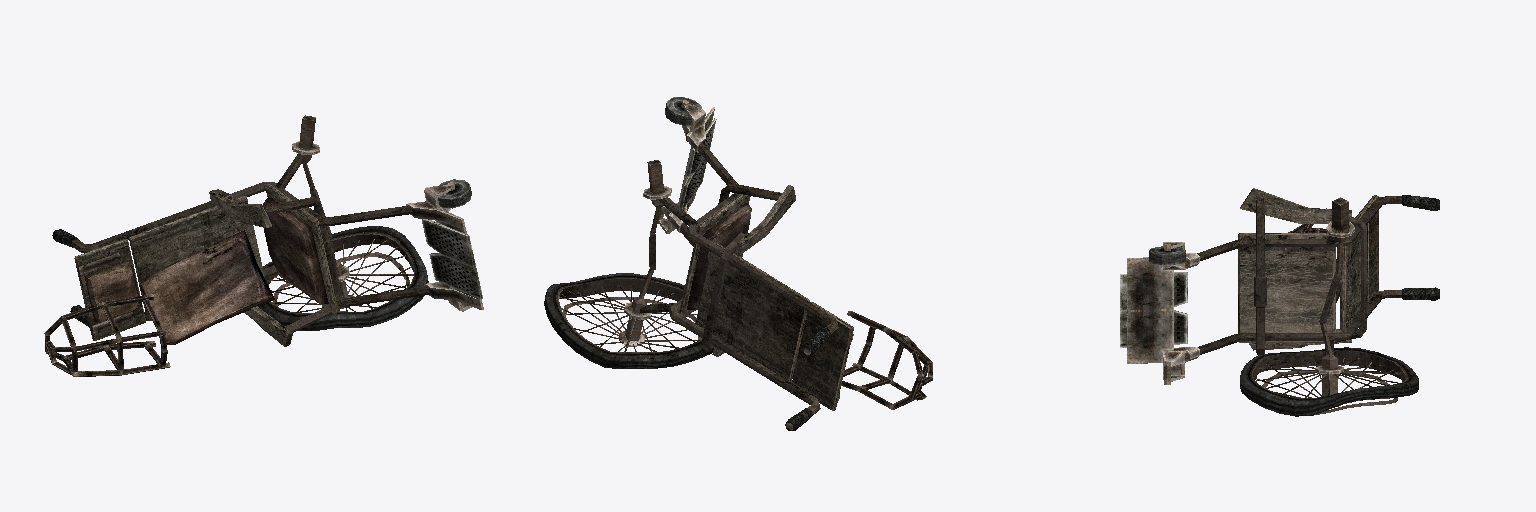
3 renders of one model, left to right at view 1: azimuth 30°, elevation 25°; view 2: azimuth 150°, elevation 25°; view 3: azimuth 270°, elevation 25°, orthographic.
Parts seen in each view (by area): view 1: OBJ_Chair_Wheelchair_Broken; view 2: OBJ_Chair_Wheelchair_Broken; view 3: OBJ_Chair_Wheelchair_Broken.
Boxes of the visible parts, x1,y1,x2,y2 form: OBJ_Chair_Wheelchair_Broken: [44, 115, 483, 376]; OBJ_Chair_Wheelchair_Broken: [544, 97, 932, 430]; OBJ_Chair_Wheelchair_Broken: [1120, 188, 1439, 416].
Size of the model in its own units: 166 by 82.58 by 125.
1 materials, 1 textured.